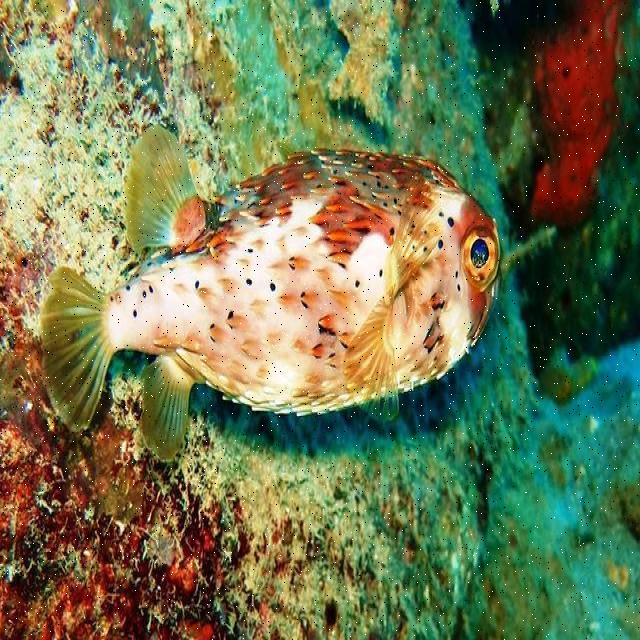fish: (40, 127, 507, 463)
